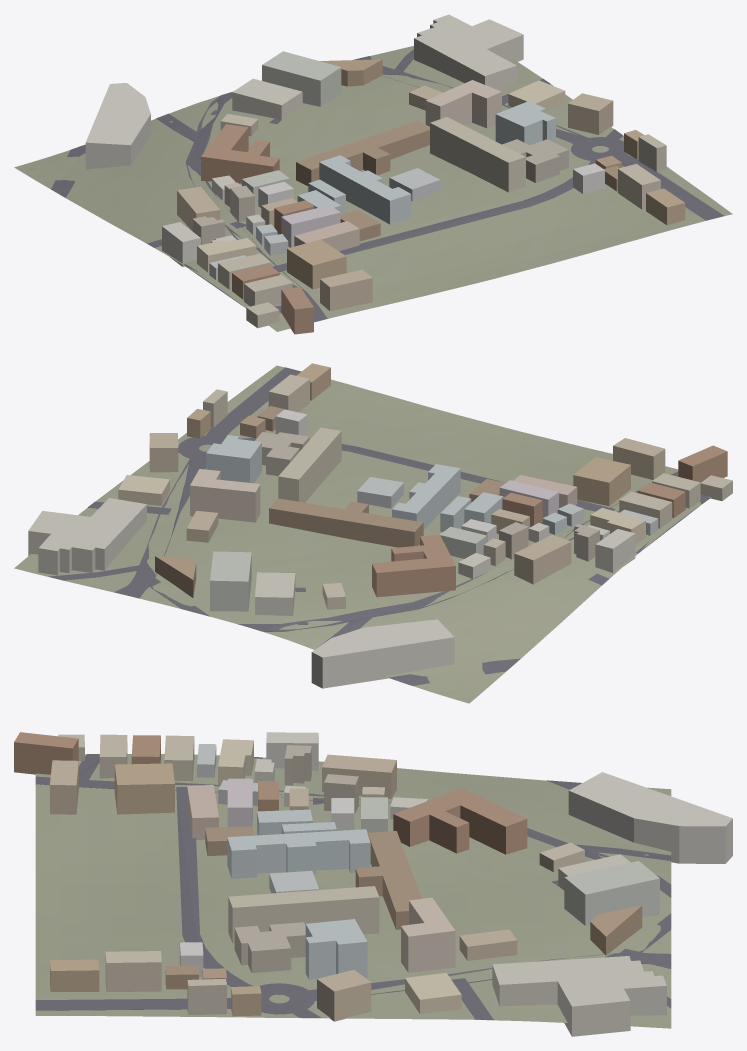
File: chunk_5_4.glb
3 renders of one model, top to bottom at view 1: azimuth 30°, elevation 25°; view 2: azimuth 150°, elevation 25°; view 3: azimuth 270°, elevation 25°, orthographic. The views are drawn at different scales.
Parts seen in each view (by area): view 1: geometry_52, geometry_6, geometry_14, geometry_15, geometry_23, geometry_2, geometry_11, geometry_12, geometry_25, geometry_13, geometry_9, geometry_54 (+32 smaller); view 2: geometry_52, geometry_14, geometry_6, geometry_23, geometry_11, geometry_15, geometry_25, geometry_12, geometry_2, geometry_50, geometry_9, geometry_30 (+38 smaller); view 3: geometry_52, geometry_6, geometry_14, geometry_11, geometry_2, geometry_15, geometry_12, geometry_23, geometry_25, geometry_9, geometry_54, geometry_50 (+39 smaller).
Part boxes in pixels (bbox=[...]): geometry_52: bbox=[14, 46, 732, 331]; geometry_6: bbox=[414, 14, 523, 89]; geometry_14: bbox=[85, 83, 150, 169]; geometry_15: bbox=[430, 117, 525, 192]; geometry_23: bbox=[296, 120, 429, 185]; geometry_2: bbox=[319, 155, 411, 224]; geometry_11: bbox=[201, 124, 279, 183]; geometry_12: bbox=[262, 51, 341, 106]; geometry_25: bbox=[425, 80, 501, 128]; geometry_13: bbox=[232, 78, 302, 119]; geometry_9: bbox=[495, 101, 555, 145]; geometry_54: bbox=[272, 161, 595, 272]; geometry_52: bbox=[14, 365, 711, 703]; geometry_14: bbox=[311, 619, 454, 688]; geometry_6: bbox=[28, 498, 146, 575]; geometry_23: bbox=[269, 498, 423, 547]; geometry_11: bbox=[372, 534, 455, 597]; geometry_15: bbox=[278, 427, 341, 502]; geometry_25: bbox=[190, 469, 260, 522]; geometry_12: bbox=[210, 551, 251, 611]; geometry_2: bbox=[392, 464, 460, 529]; geometry_50: bbox=[573, 457, 630, 505]; geometry_9: bbox=[206, 435, 261, 483]; geometry_30: bbox=[514, 534, 571, 584]; geometry_52: bbox=[35, 754, 671, 1028]; geometry_6: bbox=[492, 956, 666, 1036]; geometry_14: bbox=[568, 772, 732, 863]; geometry_11: bbox=[393, 788, 527, 854]; geometry_2: bbox=[227, 829, 370, 878]; geometry_15: bbox=[228, 886, 379, 943]; geometry_12: bbox=[564, 861, 659, 925]; geometry_23: bbox=[355, 831, 421, 929]; geometry_25: bbox=[401, 897, 455, 972]; geometry_9: bbox=[305, 919, 367, 979]; geometry_54: bbox=[176, 787, 253, 986]; geometry_50: bbox=[114, 763, 174, 814].
Bounding box in the file's own units: 263 × 33.36 × 283.
